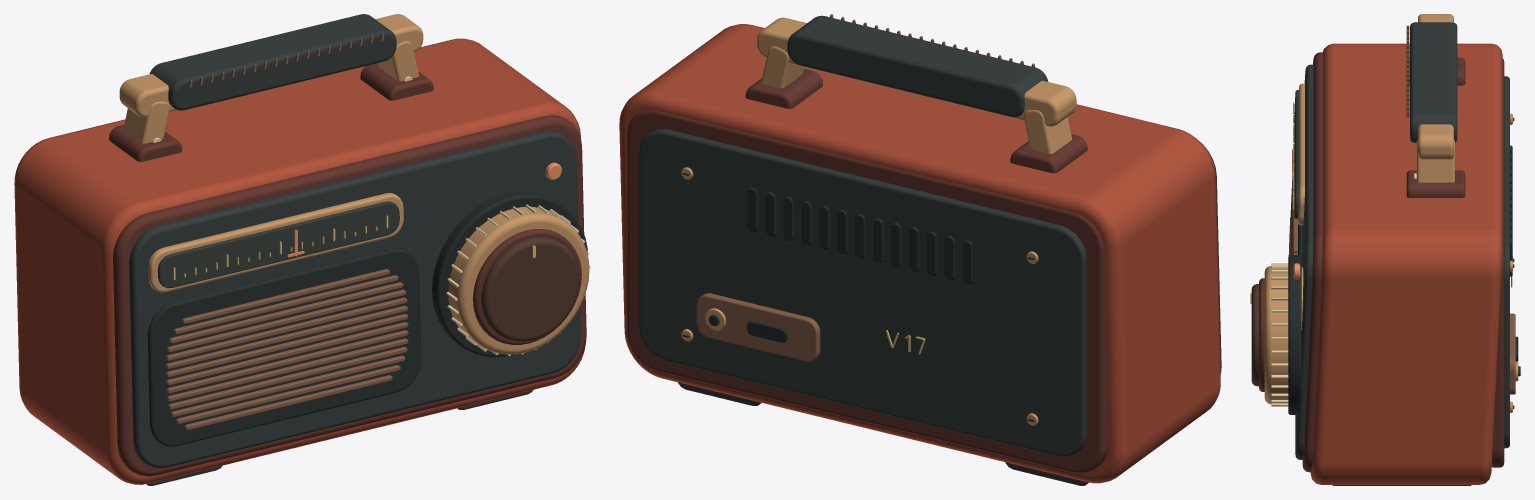
The model's file is vela-17-DNz9O7HB.glb.
The picture shows the model from 3 angles, left to right: view 1: azimuth 30°, elevation 25°; view 2: azimuth 150°, elevation 25°; view 3: azimuth 270°, elevation 25°; orthographic projection. The views are drawn at different scales.
Parts seen in each view (by area): view 1: Vela17_Enamel, Vela17_Charcoal, Vela17_Recess, Vela17_Rim, Vela17_Shoulder, Vela17_Brass, Vela17_DialGlass, Vela17_Bakelite, Vela17_Studs; view 2: Vela17_Charcoal, Vela17_Enamel, Vela17_Shoulder, Vela17_Recess, Vela17_Brass, Vela17_Rim, Vela17_Rubber; view 3: Vela17_Enamel, Vela17_Charcoal, Vela17_Shoulder, Vela17_Brass, Vela17_Recess, Vela17_Rim, Vela17_Studs, Vela17_Bakelite, Vela17_DialGlass.
Part boxes in pixels (bbox=[...]): Vela17_Enamel: bbox=[14, 38, 585, 484]; Vela17_Charcoal: bbox=[129, 14, 580, 468]; Vela17_Recess: bbox=[147, 191, 587, 446]; Vela17_Rim: bbox=[166, 33, 408, 429]; Vela17_Shoulder: bbox=[109, 63, 586, 476]; Vela17_Brass: bbox=[119, 14, 589, 354]; Vela17_DialGlass: bbox=[157, 201, 399, 288]; Vela17_Bakelite: bbox=[481, 237, 579, 341]; Vela17_Studs: bbox=[152, 76, 590, 356]; Vela17_Charcoal: bbox=[639, 15, 1086, 456]; Vela17_Enamel: bbox=[619, 24, 1220, 483]; Vela17_Shoulder: bbox=[627, 69, 1221, 473]; Vela17_Recess: bbox=[682, 173, 1034, 421]; Vela17_Brass: bbox=[681, 17, 1076, 425]; Vela17_Rim: bbox=[696, 14, 1035, 361]; Vela17_Rubber: bbox=[678, 382, 1088, 485]; Vela17_Enamel: bbox=[1310, 43, 1502, 484]; Vela17_Charcoal: bbox=[1295, 22, 1509, 459]; Vela17_Shoulder: bbox=[1259, 52, 1504, 472]; Vela17_Brass: bbox=[1264, 14, 1518, 412]; Vela17_Recess: bbox=[1288, 117, 1520, 414]; Vela17_Rim: bbox=[1288, 25, 1515, 394]; Vela17_Studs: bbox=[1271, 173, 1416, 406]; Vela17_Bakelite: bbox=[1251, 284, 1258, 386]; Vela17_DialGlass: bbox=[1294, 90, 1299, 218].
Size of the model in its own units: 0.224 by 0.1601 by 0.12.
